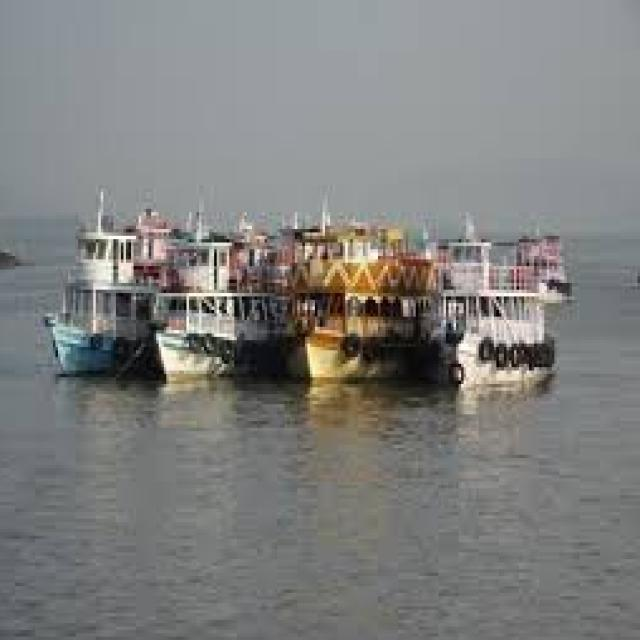fishing boat: (393, 193, 573, 397), (256, 217, 418, 379), (143, 210, 281, 384), (24, 189, 148, 371)
